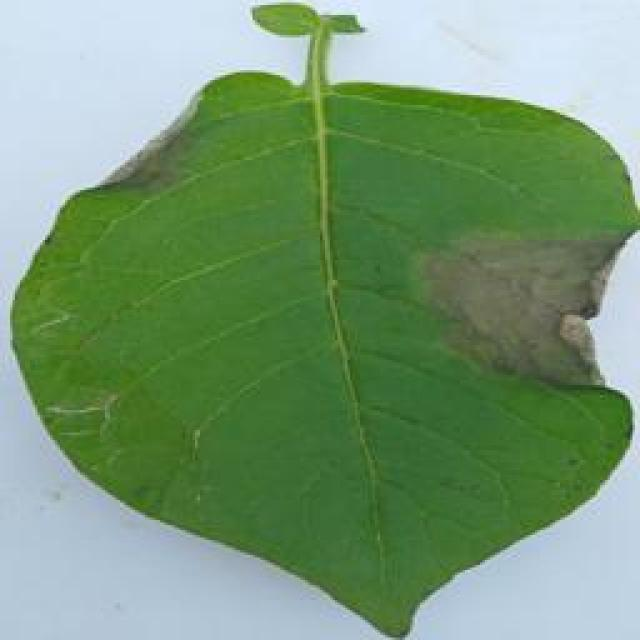Potato_Late_Blight: (12, 6, 630, 636)
